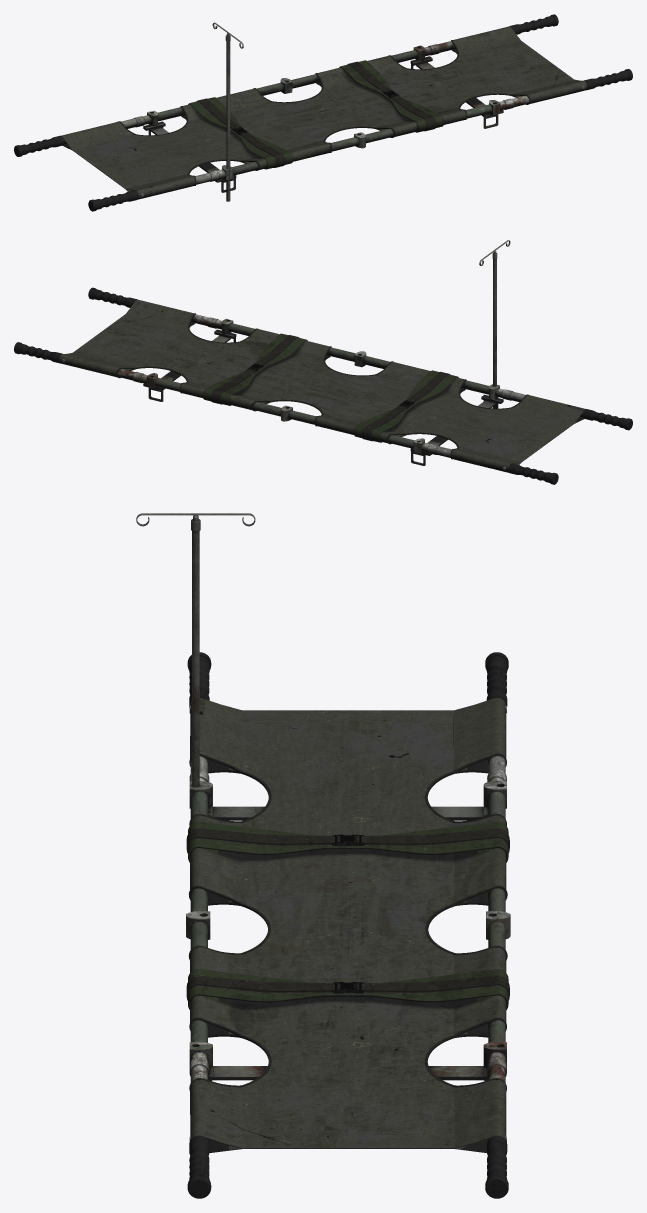
3 renders of one model, top to bottom at view 1: azimuth 30°, elevation 25°; view 2: azimuth 150°, elevation 25°; view 3: azimuth 270°, elevation 25°, orthographic. The views are drawn at different scales.
Parts seen in each view (by area): view 1: navy.003_low, navy.001_low, navy.010_low, navy.002_low, navy.009_low, navy.017_low, navy.011_low, navy.004_low, navy_low, navy.016_low, navy.014_low; view 2: navy.003_low, navy.001_low, navy.010_low, navy.002_low, navy.009_low, navy.017_low, navy.011_low, navy_low, navy.004_low, navy.016_low; view 3: navy.003_low, navy.010_low, navy.009_low, navy.017_low, navy.002_low, navy.001_low, navy.016_low, navy.011_low, navy.004_low.
Boxes of the visible parts, x1=… form: navy.003_low: x1=61, y1=26, x2=587, y2=199; navy.001_low: x1=133, y1=44, x2=514, y2=181; navy.010_low: x1=188, y1=60, x2=444, y2=169; navy.002_low: x1=14, y1=14, x2=632, y2=211; navy.009_low: x1=197, y1=61, x2=436, y2=167; navy.017_low: x1=117, y1=40, x2=530, y2=185; navy.011_low: x1=147, y1=45, x2=499, y2=180; navy.004_low: x1=225, y1=35, x2=230, y2=201; navy_low: x1=62, y1=27, x2=587, y2=196; navy.016_low: x1=150, y1=62, x2=485, y2=172; navy.014_low: x1=143, y1=56, x2=503, y2=182; navy.003_low: x1=59, y1=299, x2=585, y2=472; navy.001_low: x1=132, y1=317, x2=513, y2=454; navy.010_low: x1=202, y1=333, x2=458, y2=442; navy.002_low: x1=14, y1=287, x2=632, y2=484; navy.009_low: x1=210, y1=335, x2=450, y2=441; navy.017_low: x1=116, y1=313, x2=528, y2=459; navy.011_low: x1=147, y1=318, x2=499, y2=453; navy_low: x1=59, y1=300, x2=583, y2=470; navy.004_low: x1=492, y1=252, x2=497, y2=408; navy.016_low: x1=161, y1=335, x2=496, y2=445; navy.003_low: x1=190, y1=697, x2=506, y2=1152; navy.010_low: x1=188, y1=821, x2=508, y2=1009; navy.009_low: x1=186, y1=828, x2=509, y2=1000; navy.017_low: x1=188, y1=753, x2=507, y2=1091; navy.002_low: x1=187, y1=652, x2=508, y2=1198; navy.001_low: x1=189, y1=769, x2=506, y2=1076; navy.016_low: x1=212, y1=806, x2=483, y2=1080; navy.011_low: x1=186, y1=781, x2=510, y2=1068; navy.004_low: x1=191, y1=519, x2=200, y2=787.
Bounding box in the file's own units: 2.71 × 0.8078 × 0.8135.
1 material, 1 textured.
